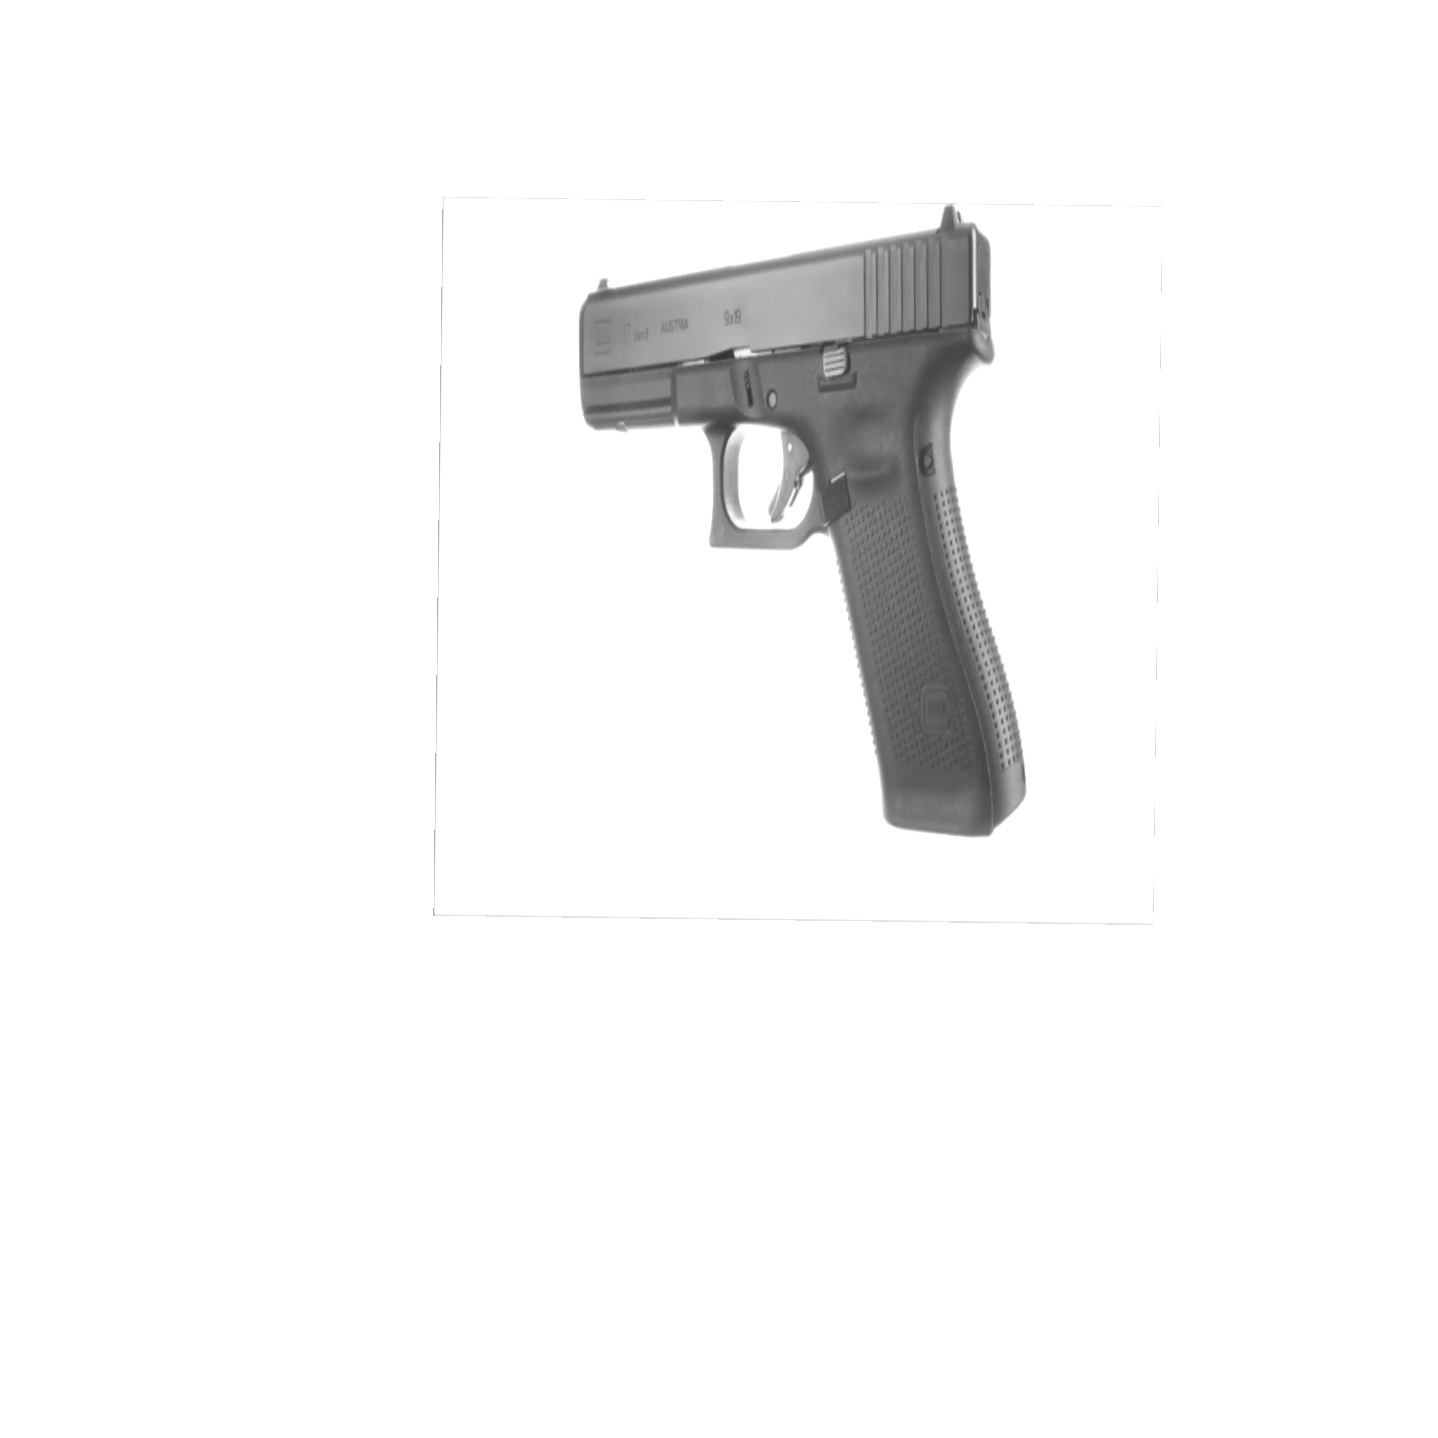gun: (557, 199, 1061, 849)
